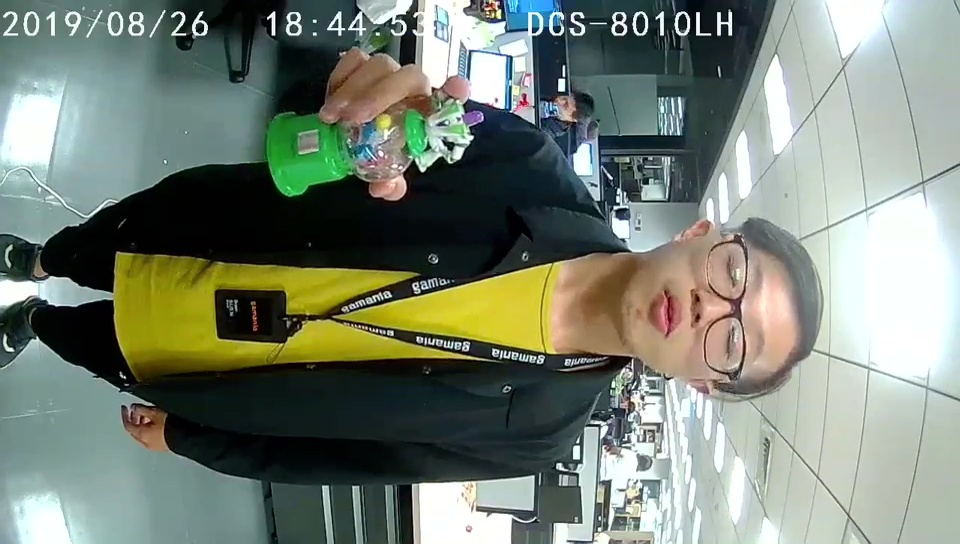buzz: (264, 99, 488, 198)
